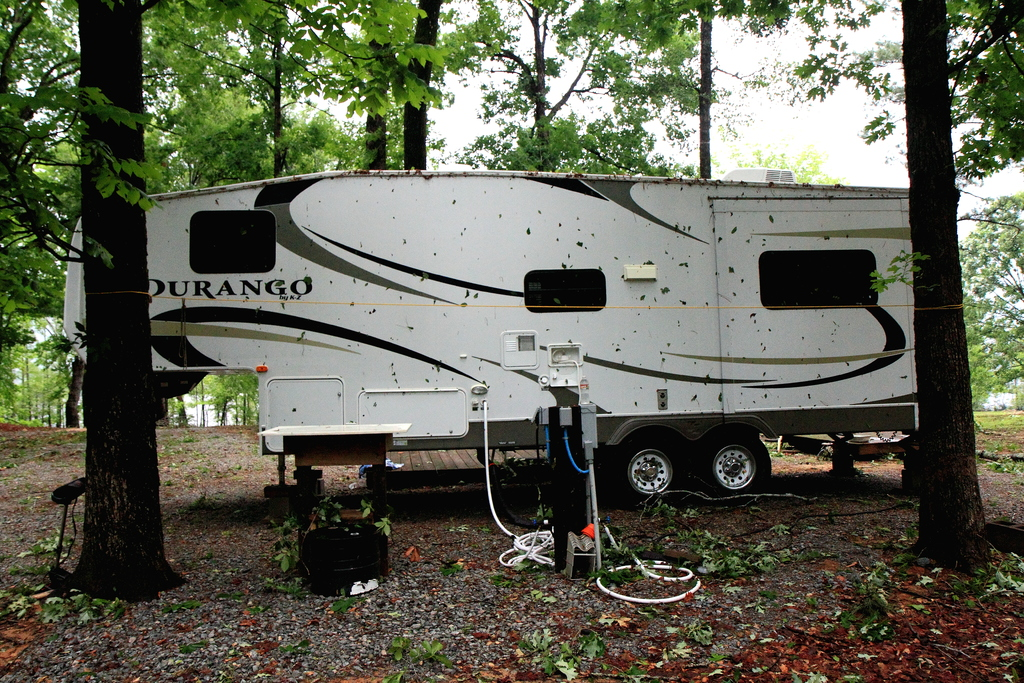Tree: (0, 0, 1024, 602)
